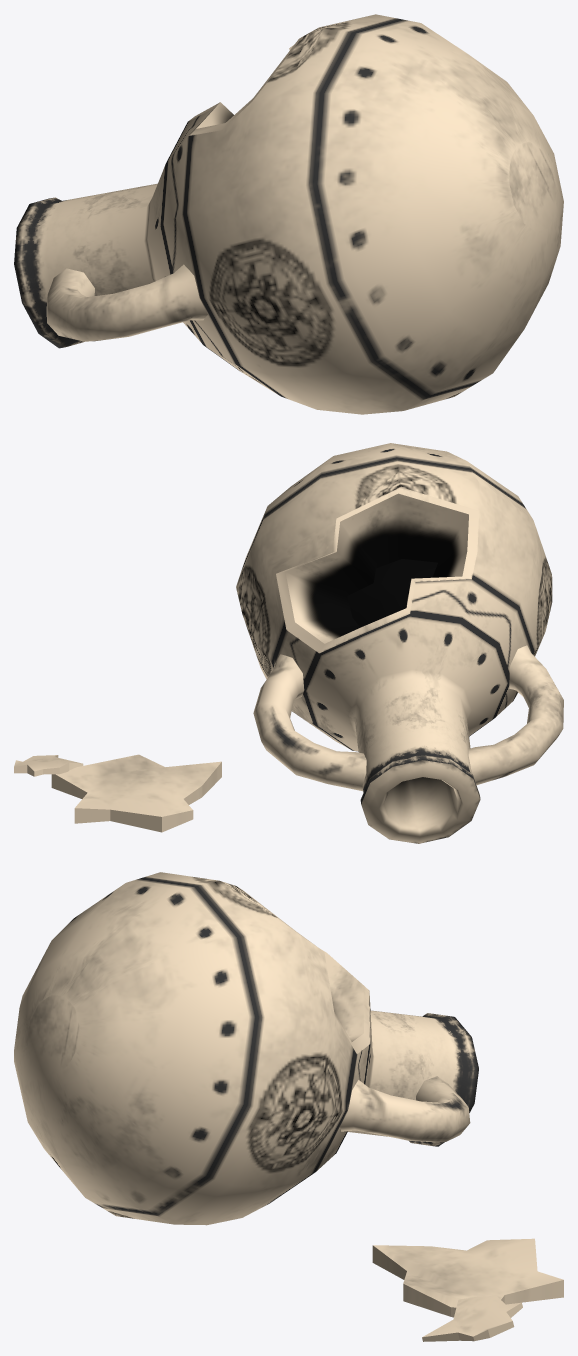
Rendered from Vase_1_break_2.fbx.
The picture shows the model from 3 angles, top to bottom: view 1: azimuth 30°, elevation 25°; view 2: azimuth 150°, elevation 25°; view 3: azimuth 270°, elevation 25°; orthographic projection. The views are drawn at different scales.
Visible parts, largest first — view 1: Vase_1_break_2; view 2: Vase_1_break_2; view 3: Vase_1_break_2.
Boxes of the visible parts, box(x1,y1,x2,y2) form: Vase_1_break_2: box(14, 14, 563, 414); Vase_1_break_2: box(14, 443, 563, 843); Vase_1_break_2: box(14, 872, 563, 1341).
Bounding box in the file's own units: 89.79 × 55.4 × 85.07.
